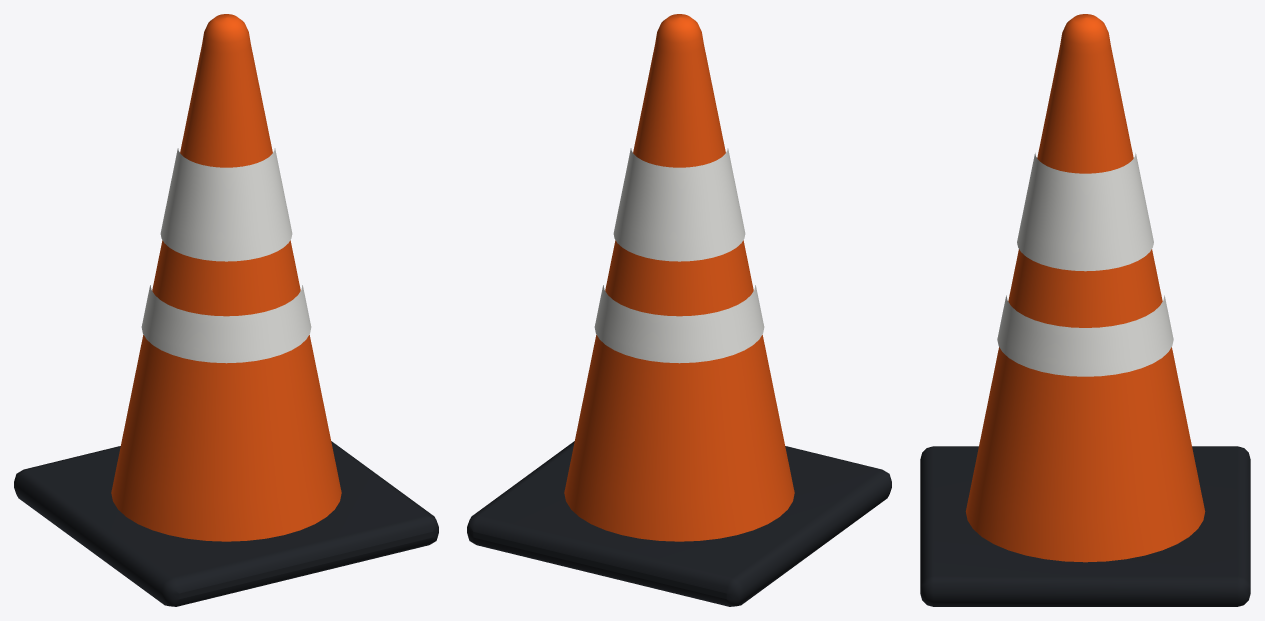
3 views of the same model, side by side, from view 1: azimuth 30°, elevation 25°; view 2: azimuth 150°, elevation 25°; view 3: azimuth 270°, elevation 25° (orthographic). The views are drawn at different scales.
Parts seen in each view (by area): view 1: cone_body, cone_base, cone_band_a, cone_band_b; view 2: cone_body, cone_base, cone_band_a, cone_band_b; view 3: cone_body, cone_base, cone_band_a, cone_band_b.
Boxes of the visible parts, x1,y1,x2,y2 form: cone_body: (111,14,341,541); cone_base: (14,441,438,606); cone_band_a: (160,148,292,261); cone_band_b: (141,285,311,363); cone_body: (564,14,794,541); cone_base: (467,441,891,606); cone_band_a: (613,148,745,261); cone_band_b: (594,285,764,363); cone_body: (965,14,1205,562); cone_base: (920,446,1250,606); cone_band_a: (1017,153,1153,271); cone_band_b: (997,295,1173,376).
Size of the model in its own units: 0.4 by 0.7 by 0.4.
